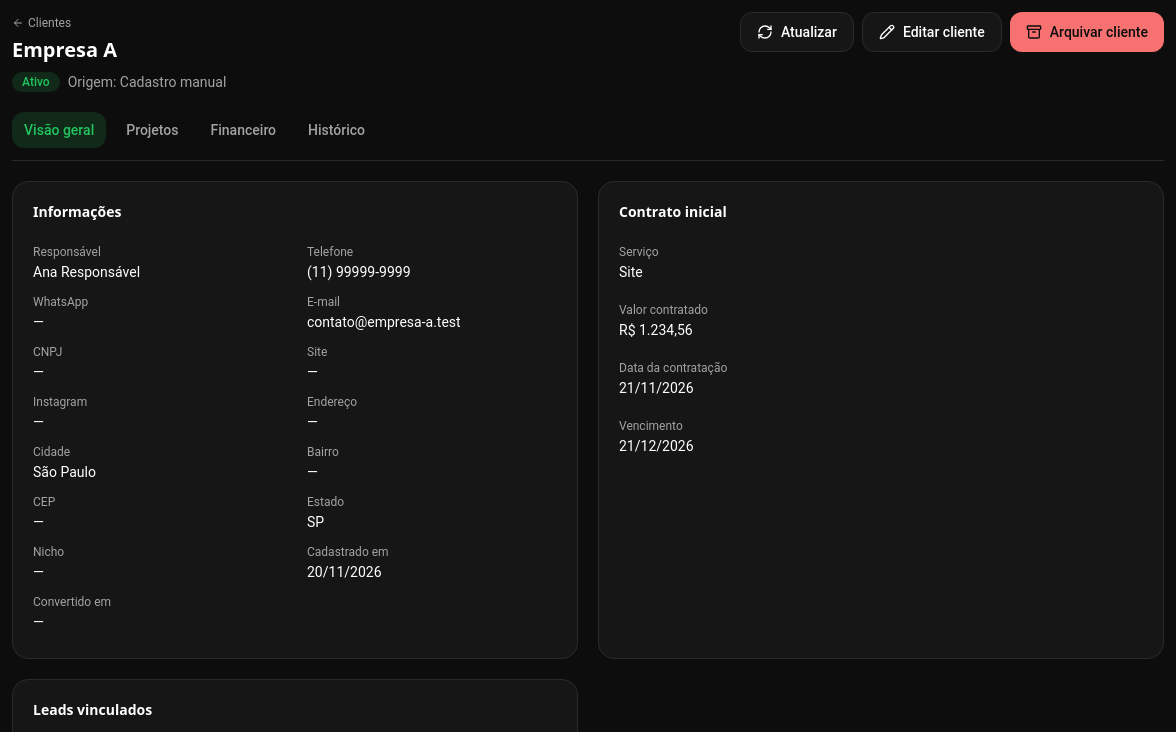
Test: ClientDetailPage › mostra cliente e contrato sem confundir com recebimento
Expected: the heading "Empresa A" is shown, [12, 36, 117, 63]
Expected: the heading "Contrato inicial" is shown, [619, 202, 727, 222]
What coordinates should you click on to do the following:
click the tab "Financeiro"
I would click on:
 (243, 130)
Its box is [198, 112, 288, 148].
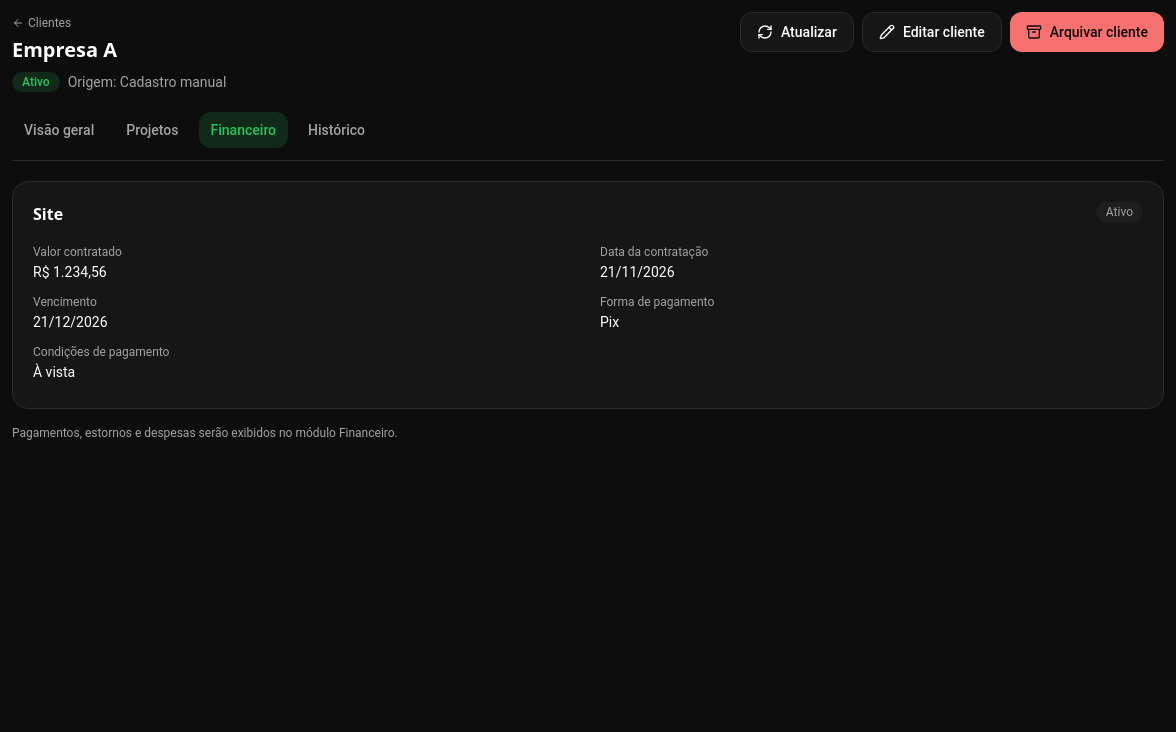
Expected: the heading "Site" is shown, [33, 202, 63, 226]
Expected: the text "Pix" is shown, [600, 314, 619, 330]
Expected: the text "Pagamentos, estornos e despesas serão exibidos no módulo Financeiro." is shown, [12, 426, 398, 440]
